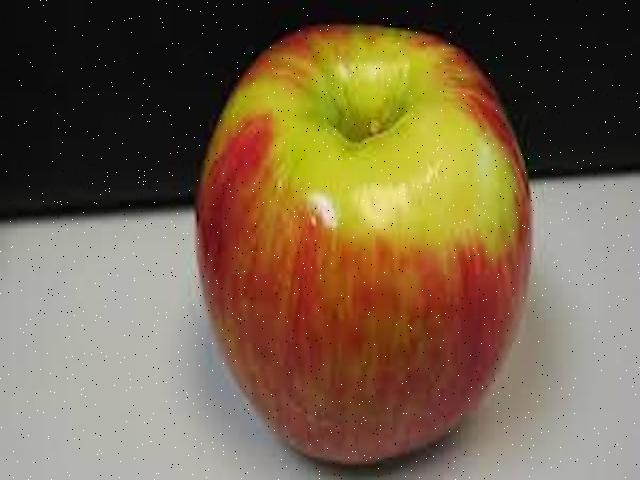apple: (191, 4, 535, 479)
